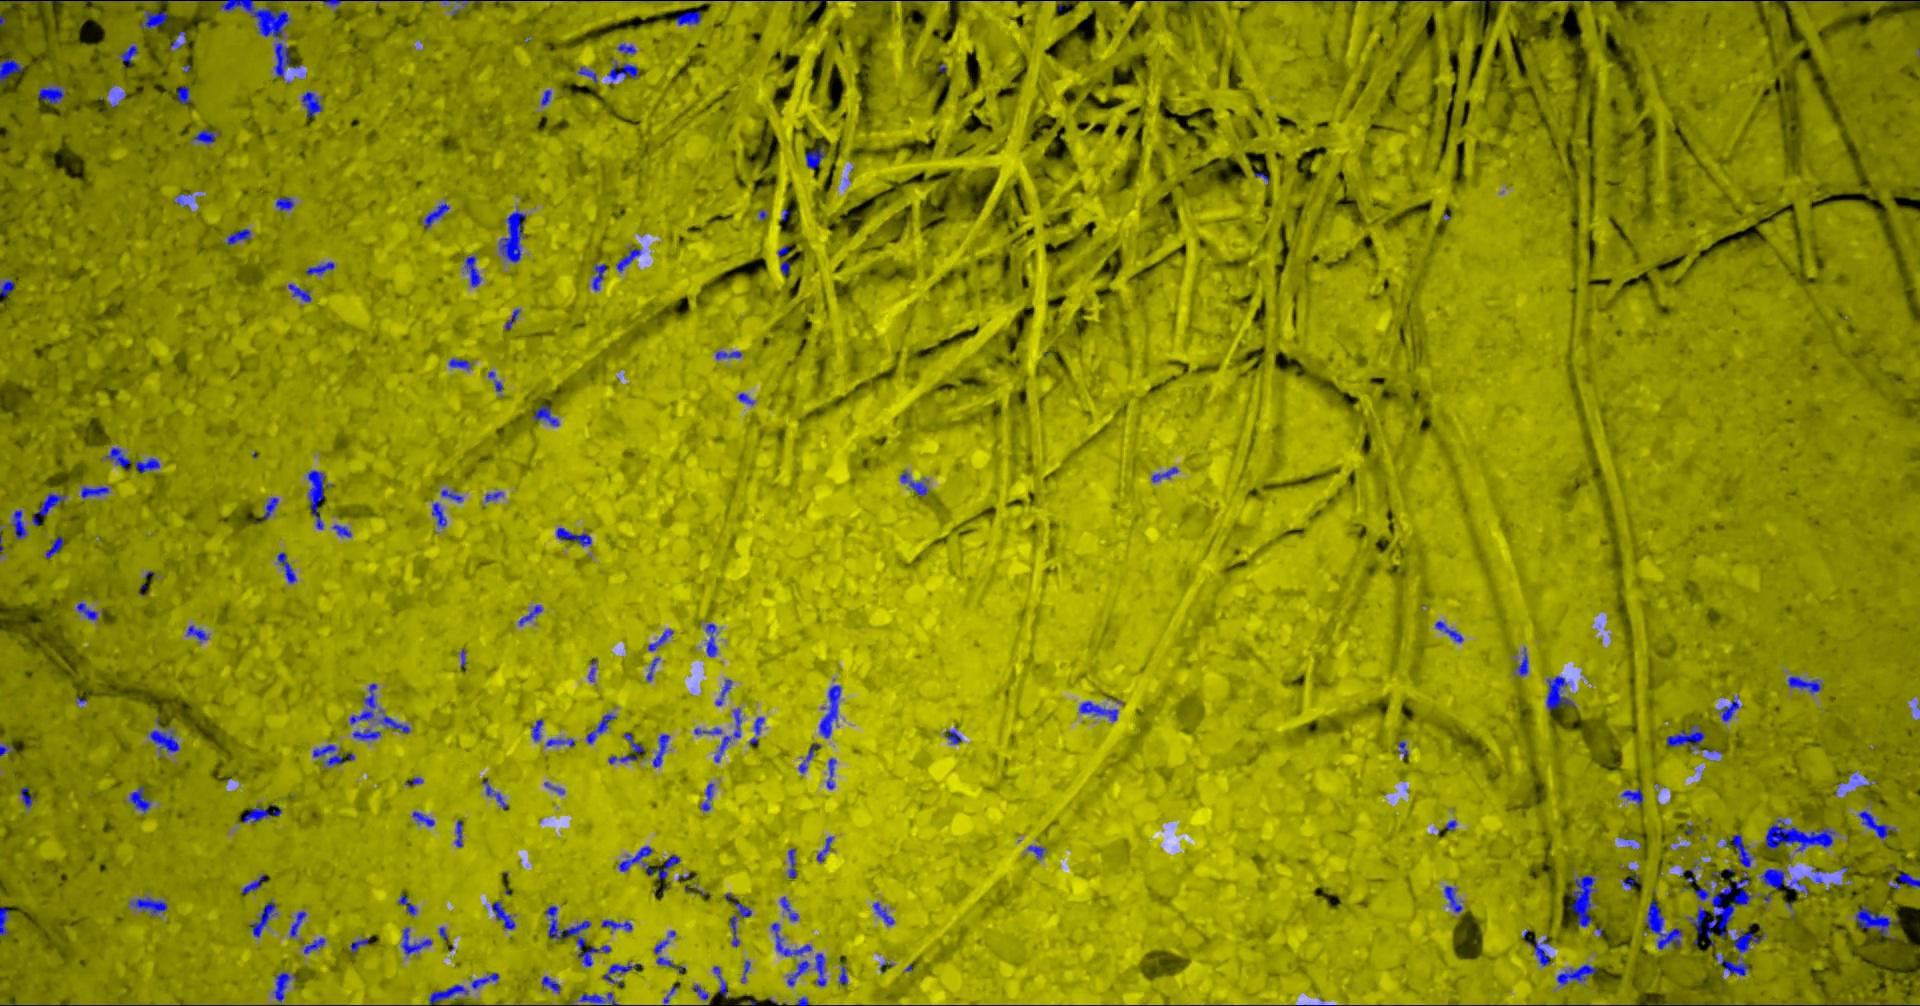ant: (547, 904, 612, 967), (1647, 899, 1684, 949), (715, 708, 743, 762), (725, 892, 753, 946), (500, 210, 528, 262), (309, 469, 333, 528), (1571, 874, 1597, 927), (772, 922, 813, 956), (107, 447, 161, 473), (1857, 904, 1900, 935), (1761, 868, 1810, 894), (610, 732, 648, 763), (820, 685, 842, 738), (350, 683, 378, 724), (33, 492, 67, 525), (655, 939, 687, 972), (1547, 674, 1576, 710), (1860, 810, 1897, 838), (251, 901, 278, 937), (587, 713, 618, 743), (644, 854, 682, 879), (1669, 724, 1705, 749), (314, 744, 356, 766), (618, 846, 654, 871), (1558, 963, 1597, 984), (403, 927, 434, 954), (604, 962, 641, 984), (483, 779, 509, 809), (1716, 953, 1751, 976), (1079, 700, 1119, 720), (430, 984, 470, 1005), (1733, 833, 1756, 868), (1528, 935, 1552, 967), (274, 970, 298, 1002), (244, 804, 283, 823), (131, 895, 169, 915), (610, 61, 640, 84), (1735, 929, 1765, 951), (557, 527, 593, 546), (902, 471, 930, 495), (493, 901, 517, 929), (151, 729, 180, 752), (800, 743, 822, 774), (1789, 674, 1823, 694), (425, 203, 451, 227), (617, 248, 643, 272), (279, 551, 298, 583), (1436, 620, 1464, 641), (465, 254, 483, 287), (649, 629, 676, 650), (654, 733, 670, 767), (380, 715, 411, 733), (1891, 869, 1920, 888), (1, 58, 25, 81), (874, 901, 897, 925), (789, 960, 811, 984), (131, 785, 152, 810), (243, 873, 268, 894), (533, 405, 560, 426), (1719, 695, 1740, 721), (141, 10, 169, 29), (303, 91, 324, 117), (1445, 885, 1464, 912), (41, 83, 65, 103), (781, 895, 800, 921), (580, 992, 618, 1005), (806, 145, 827, 168), (521, 605, 543, 625), (291, 909, 307, 937), (472, 972, 500, 988), (818, 836, 836, 861), (307, 260, 337, 276), (13, 509, 28, 539), (1622, 788, 1644, 807), (400, 890, 418, 915), (714, 967, 728, 997), (121, 44, 138, 67), (229, 227, 251, 245), (593, 263, 608, 290), (290, 283, 312, 301), (1152, 466, 1178, 481), (433, 500, 448, 527), (750, 716, 766, 743), (193, 130, 221, 144), (677, 10, 702, 25), (717, 680, 733, 705), (603, 920, 634, 932), (47, 536, 65, 558), (77, 602, 99, 620), (505, 307, 522, 330), (707, 622, 719, 655), (187, 624, 210, 640), (1517, 647, 1530, 674), (354, 728, 382, 741), (702, 782, 715, 810), (305, 937, 328, 953), (648, 657, 662, 681), (579, 66, 599, 83), (817, 953, 827, 986), (22, 786, 37, 808), (414, 810, 436, 826), (83, 485, 110, 497), (265, 497, 279, 520), (543, 976, 563, 992), (489, 371, 504, 391), (450, 357, 472, 370), (1622, 874, 1641, 889), (828, 757, 837, 789), (442, 489, 463, 502), (1, 279, 17, 297), (949, 727, 964, 744), (1, 906, 10, 936), (352, 937, 370, 953), (789, 848, 797, 878), (178, 85, 190, 105), (277, 196, 295, 210), (1029, 845, 1048, 857), (533, 718, 543, 741), (717, 351, 743, 359), (547, 738, 577, 746), (618, 43, 637, 55), (334, 525, 353, 536), (695, 727, 723, 734), (693, 984, 709, 998), (589, 658, 598, 681), (456, 821, 463, 847), (739, 392, 756, 404), (1399, 741, 1410, 758), (486, 492, 505, 500), (841, 965, 850, 984), (542, 89, 552, 105), (1, 743, 15, 754), (782, 260, 791, 276), (1, 0, 66, 1)
